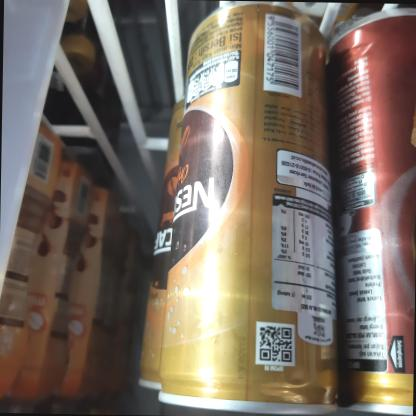alumunium_can: (110, 0, 340, 416)
